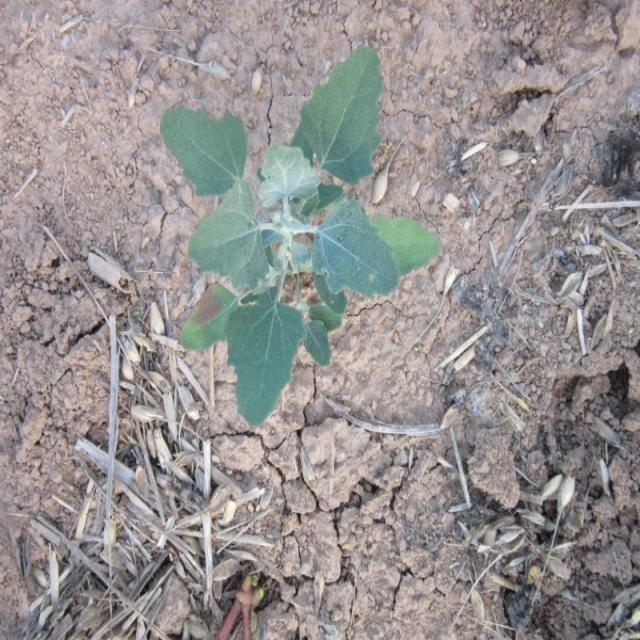ca: (161, 50, 435, 422)
